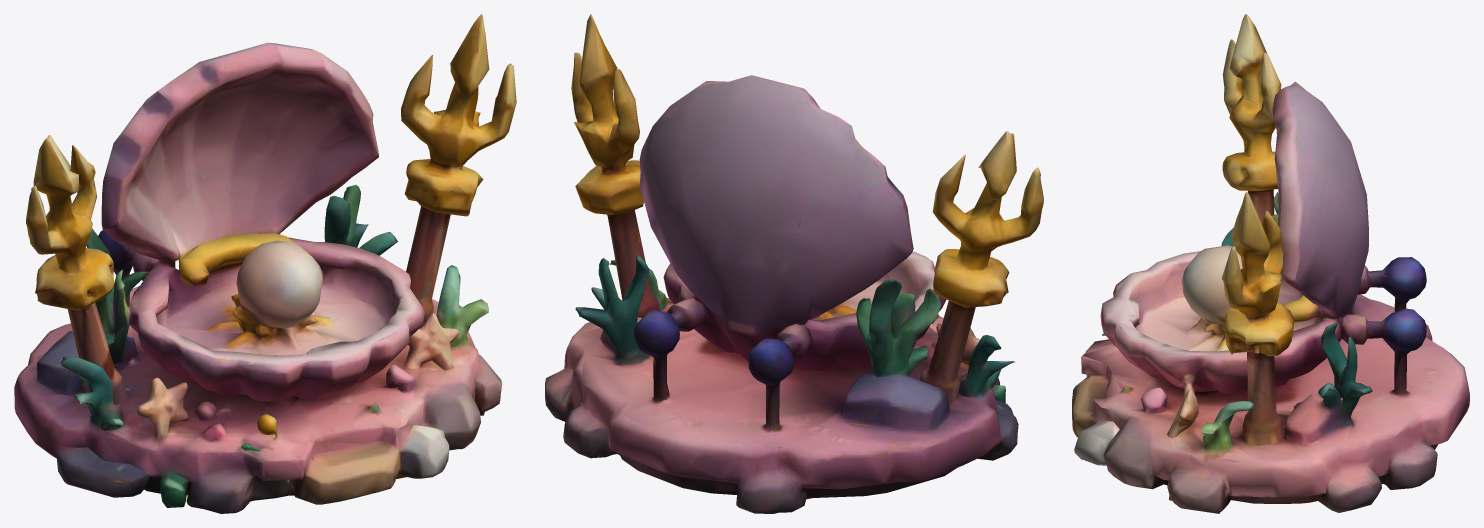
Rendered from shellthrone.glb.
3 views of the same model, side by side, from view 1: azimuth 30°, elevation 25°; view 2: azimuth 150°, elevation 25°; view 3: azimuth 270°, elevation 25° (orthographic). The views are drawn at different scales.
Parts seen in each view (by area): view 1: tripo_node_921c0fe4; view 2: tripo_node_921c0fe4; view 3: tripo_node_921c0fe4.
Part boxes in pixels (<box>): tripo_node_921c0fe4: <box>14,14,516,513</box>; tripo_node_921c0fe4: <box>545,14,1043,513</box>; tripo_node_921c0fe4: <box>1072,14,1469,513</box>.
Bounding box in the file's own units: 98.83 × 70.07 × 77.16.
1 material, 1 textured.
